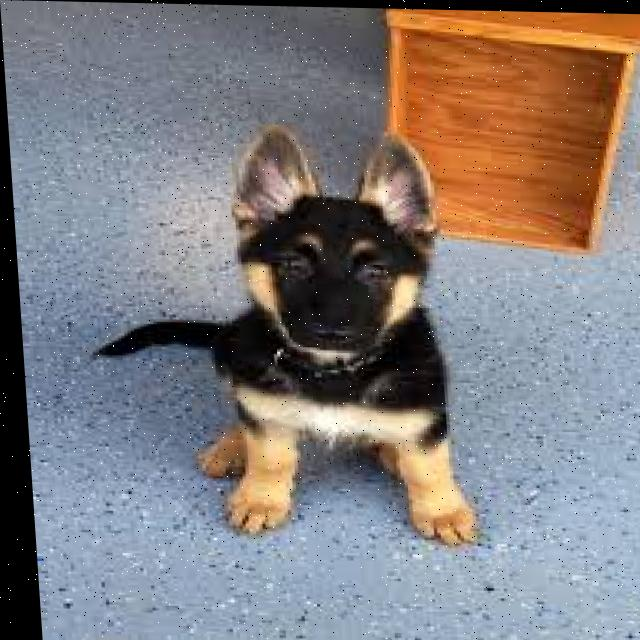GERMAN_SHEPHERD: (60, 116, 494, 558)
